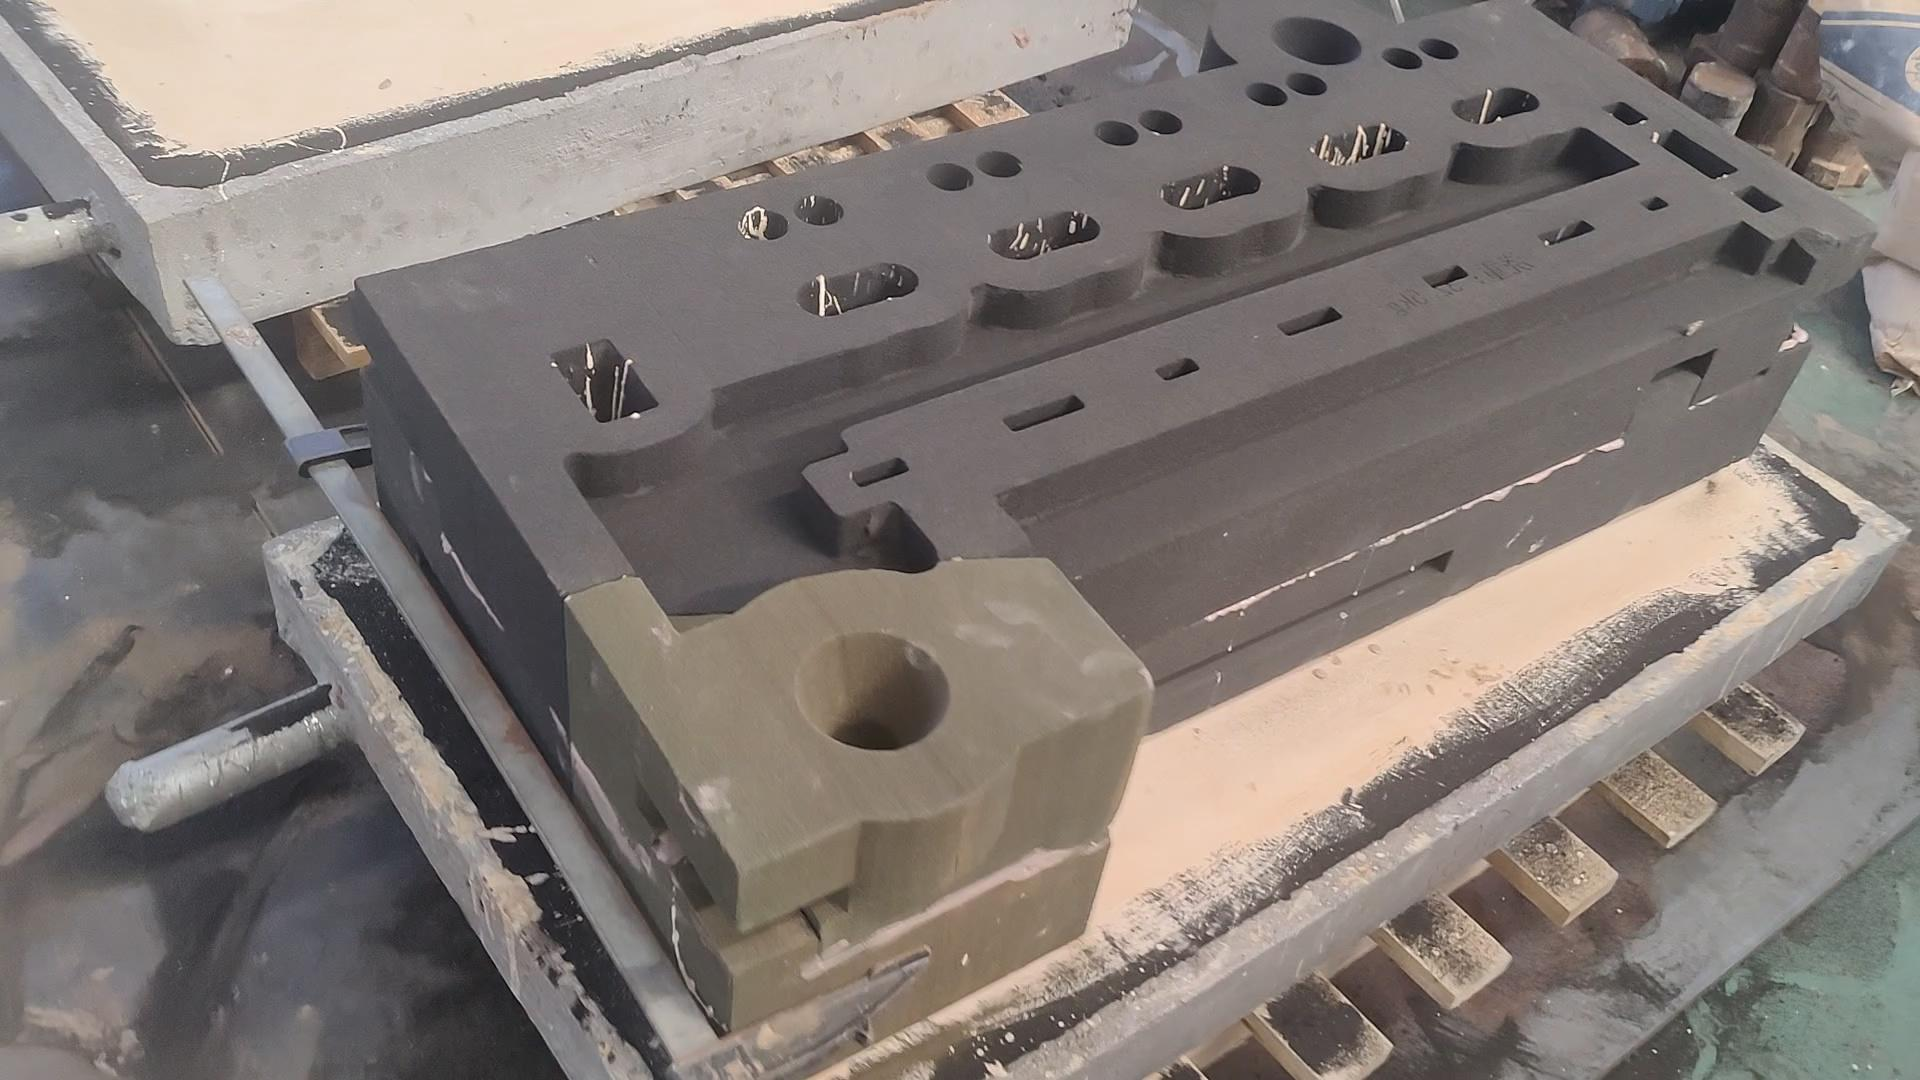pouring hole: (794, 634, 949, 752), (1269, 16, 1364, 66)
